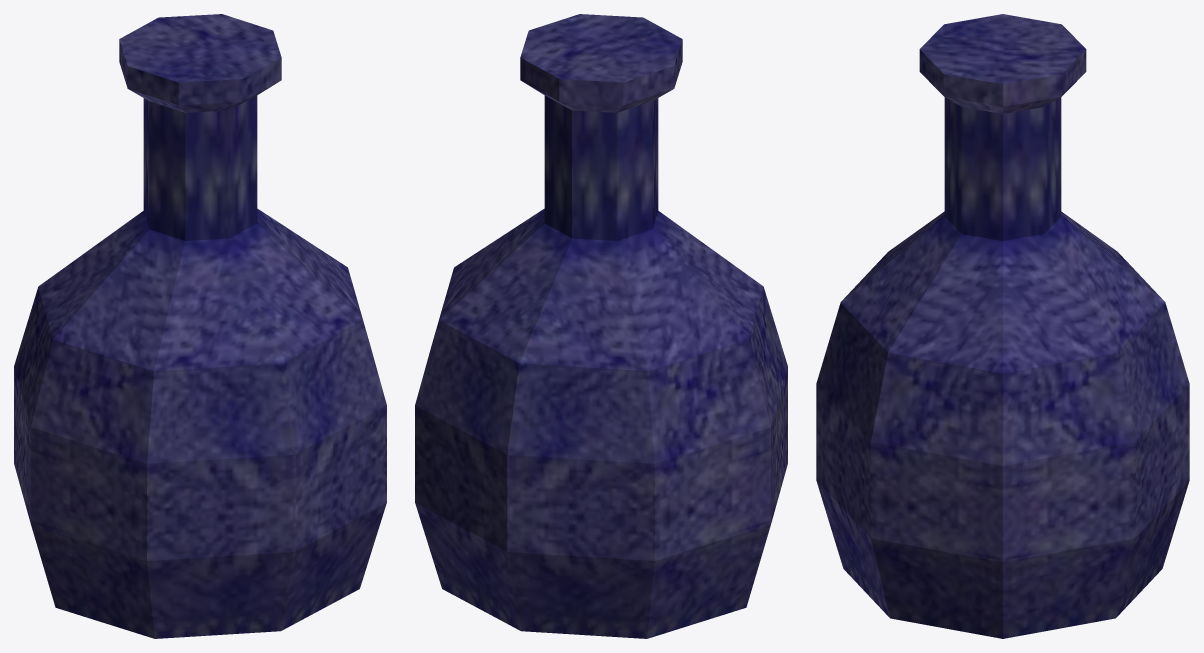
The model's file is GS_SOK_OAZA_01_SZCZAWIK.glb.
3 renders of one model, left to right at view 1: azimuth 30°, elevation 25°; view 2: azimuth 150°, elevation 25°; view 3: azimuth 270°, elevation 25°, orthographic.
Parts seen in each view (by area): view 1: GS_SOK_OAZA_01_SZCZAWIK; view 2: GS_SOK_OAZA_01_SZCZAWIK; view 3: GS_SOK_OAZA_01_SZCZAWIK.
Part boxes in pixels (x1,y1,x2,y2): GS_SOK_OAZA_01_SZCZAWIK: (14,14,386,638); GS_SOK_OAZA_01_SZCZAWIK: (415,14,787,638); GS_SOK_OAZA_01_SZCZAWIK: (816,14,1189,638).
Size of the model in its own units: 0.1911 by 0.2822 by 0.1838.
Materials: 1 (1 with a texture image).
